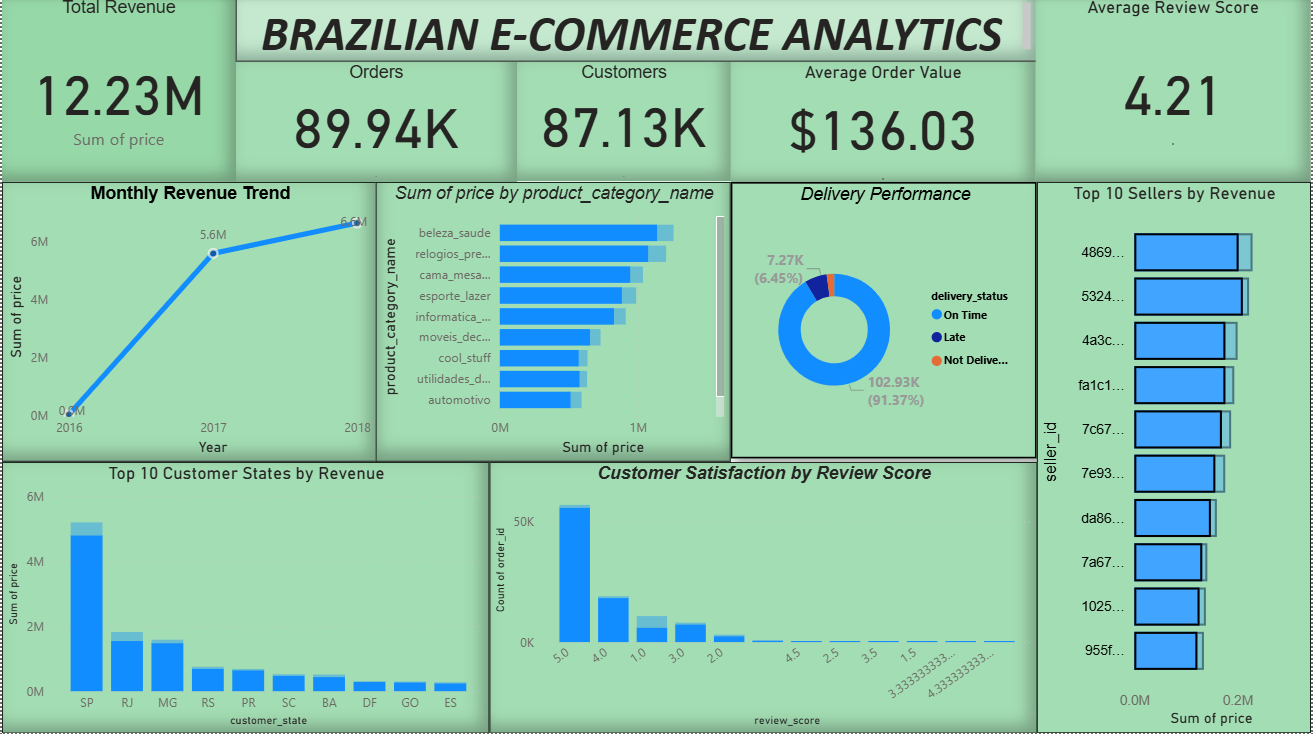

The dashboard page shown, as its layout file describes it:
{"tool":"powerbi","page":{"name":"Page 1","canvas":[1280,720],"ordinal":0},"visuals":[{"type":"textbox","box":[228.7,0,783.8,63.6],"z":0},{"type":"card","title":"Orders","fields":{"Values":["Count(olist_sales_analysis.order_id)"]},"box":[228.7,63.6,275.1,117.4],"z":1000},{"type":"card","title":"Customers","fields":{"Values":["Count(olist_sales_analysis.customer_unique_id)"]},"box":[503.4,63.9,209.5,117],"z":2000},{"type":"card","title":"Average Order Value","fields":{"Values":["olist_sales_analysis.Average Order Value"]},"box":[712.9,63.6,298.4,122.3],"z":3000},{"type":"card","title":"Average Review Score","fields":{"Values":["olist_sales_analysis.Average Review Score"]},"box":[1011.3,0,269,181],"z":4000},{"type":"lineChart","title":"Monthly Revenue Trend","fields":{"Category":["olist_sales_analysis.order_month.Variation.Date Hierarchy.Year","olist_sales_analysis.order_month.Variation.Date Hierarchy.Quarter","olist_sales_analysis.order_month.Variation.Date Hierarchy.Month","olist_sales_analysis.order_month.Variation.Date Hierarchy.Day"],"Y":["Sum(olist_sales_analysis.price)"]},"box":[0,181,366.8,273.9],"z":5000},{"type":"clusteredBarChart","fields":{"Category":["olist_sales_analysis.product_category_name"],"Y":["Sum(olist_sales_analysis.price)"]},"box":[365.6,181,347.3,273.9],"z":6000},{"type":"clusteredColumnChart","title":"Top 10 Customer States by Revenue","fields":{"Category":["olist_sales_analysis.customer_state"],"Y":["Sum(olist_sales_analysis.price)"]},"box":[0,454.9,476.9,265.4],"z":7000},{"type":"donutChart","title":"Delivery Performance","fields":{"Category":["olist_sales_analysis.delivery_status"],"Y":["CountNonNull(olist_sales_analysis.order_id)"]},"box":[712.9,181,299.6,270.2],"z":8000},{"type":"clusteredBarChart","title":"Top 10 Sellers by Revenue","fields":{"Category":["olist_sales_analysis.seller_id"],"Y":["Sum(olist_sales_analysis.price)"]},"box":[1012.5,181,267.8,539.3],"z":9000},{"type":"clusteredColumnChart","title":"Customer Satisfaction by Review Score","fields":{"Category":["olist_sales_analysis.review_score"],"Y":["Count(olist_sales_analysis.order_id)"]},"box":[476.9,454.9,535.6,265.4],"z":10000},{"type":"card","title":"Total Revenue","fields":{"Values":["Sum(olist_sales_analysis.price)"]},"box":[0,0,228.7,181],"z":11000}]}

Visuals, with their boxes in screenshot pixels (x1, y1, x2, y2), scaled from the page's 1280x720 canvas onto the 1313x734 screenshot:
textbox: 235 0 1039 65
"Orders" card: 235 65 517 185
"Customers" card: 516 65 731 184
"Average Order Value" card: 731 65 1037 190
"Average Review Score" card: 1037 0 1312 185
"Monthly Revenue Trend" lineChart: 0 185 376 464
clusteredBarChart - olist_sales_analysis.product_category_name x Sum(olist_sales_analysis.price): 375 185 731 464
"Top 10 Customer States by Revenue" clusteredColumnChart: 0 464 489 733
"Delivery Performance" donutChart: 731 185 1039 460
"Top 10 Sellers by Revenue" clusteredBarChart: 1039 185 1312 733
"Customer Satisfaction by Review Score" clusteredColumnChart: 489 464 1039 733
"Total Revenue" card: 0 0 235 185
